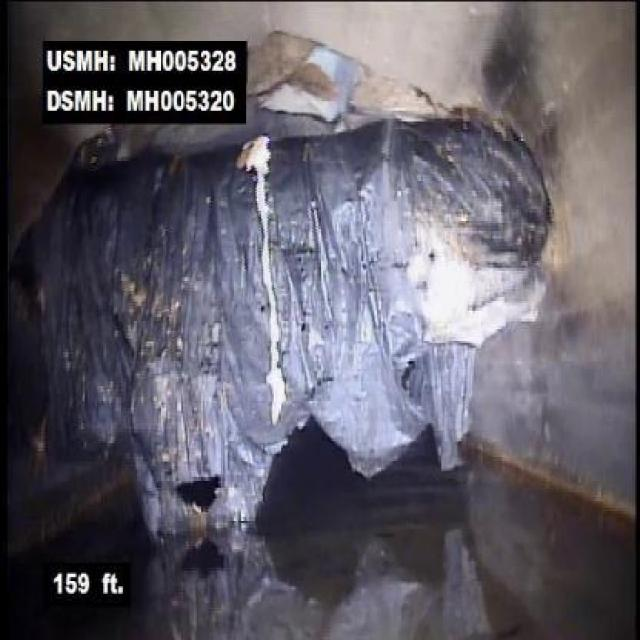Hole: (252, 24, 440, 121)
Utility intrusion: (15, 125, 568, 332)
